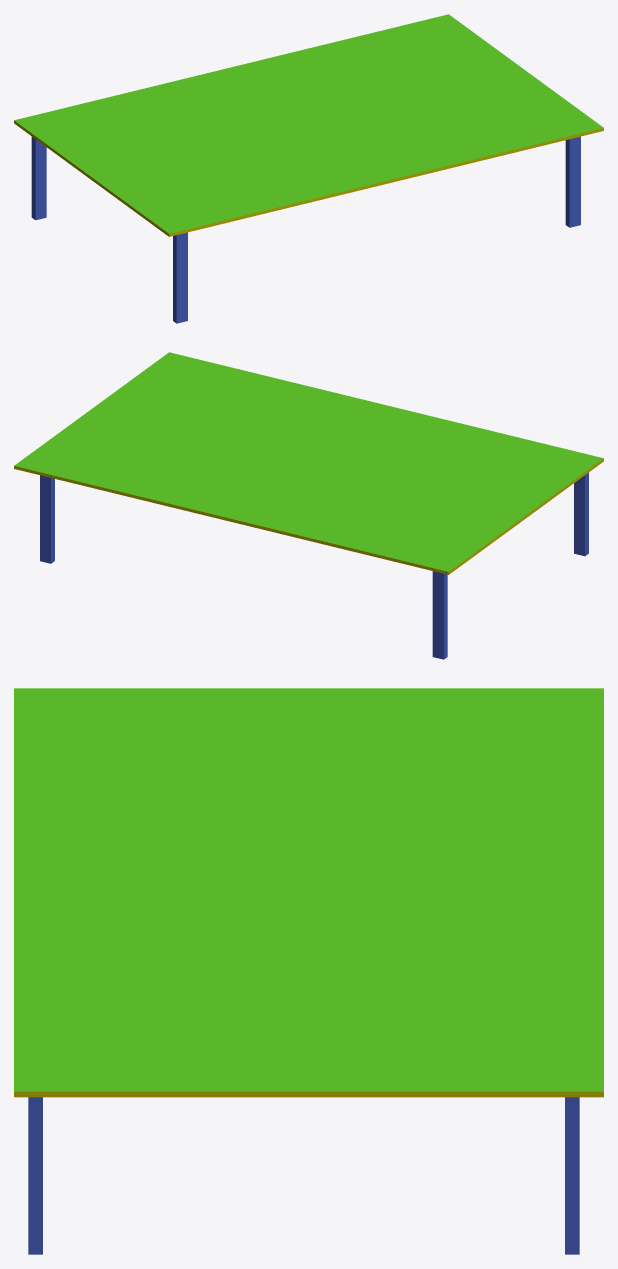
File: TABLE V2.fbx
3 renders of one model, top to bottom at view 1: azimuth 30°, elevation 25°; view 2: azimuth 150°, elevation 25°; view 3: azimuth 270°, elevation 25°, orthographic. The views are drawn at different scales.
Parts seen in each view (by area): view 1: table (×3); view 2: table (×3); view 3: table (×3).
Boxes of the visible parts, x1,y1,x2,y2 form: table (×3): (14, 14, 603, 323); table (×3): (14, 352, 603, 659); table (×3): (14, 688, 603, 1254).
Bounding box in the file's own units: 1083 × 227 × 670.
